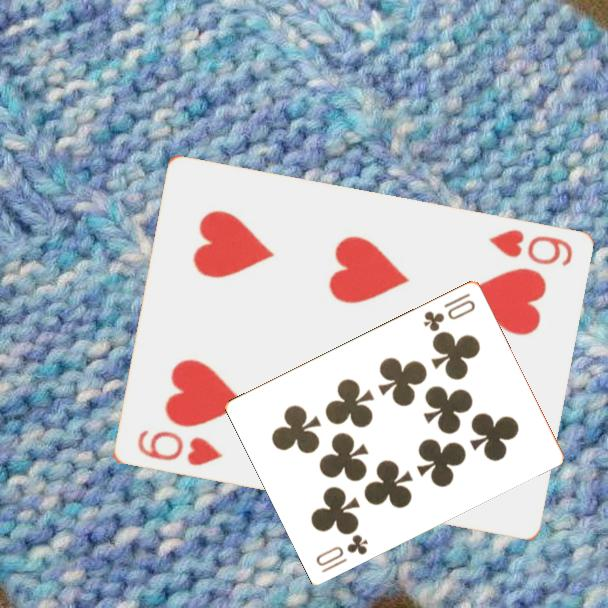c10: (312, 530, 371, 575), (420, 289, 478, 334)
h06: (484, 226, 575, 270), (133, 426, 225, 469)
